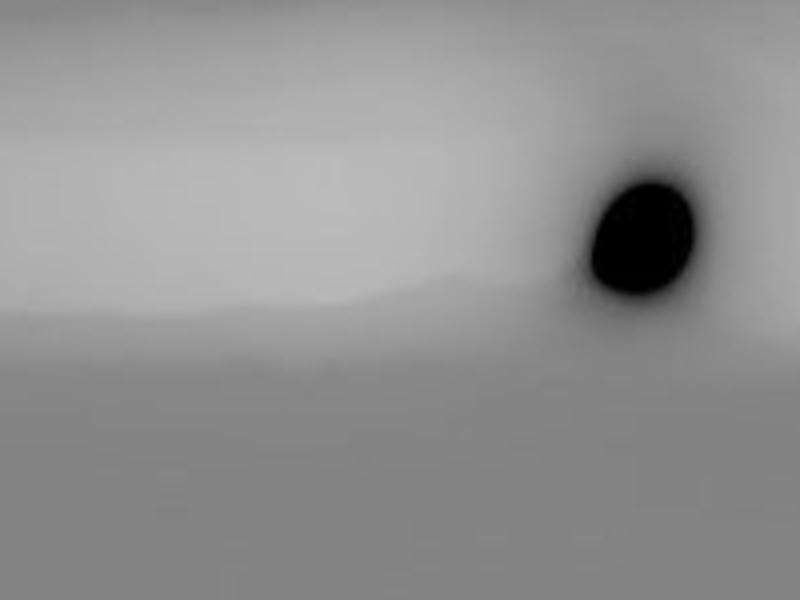defect: (585, 176, 694, 299)
